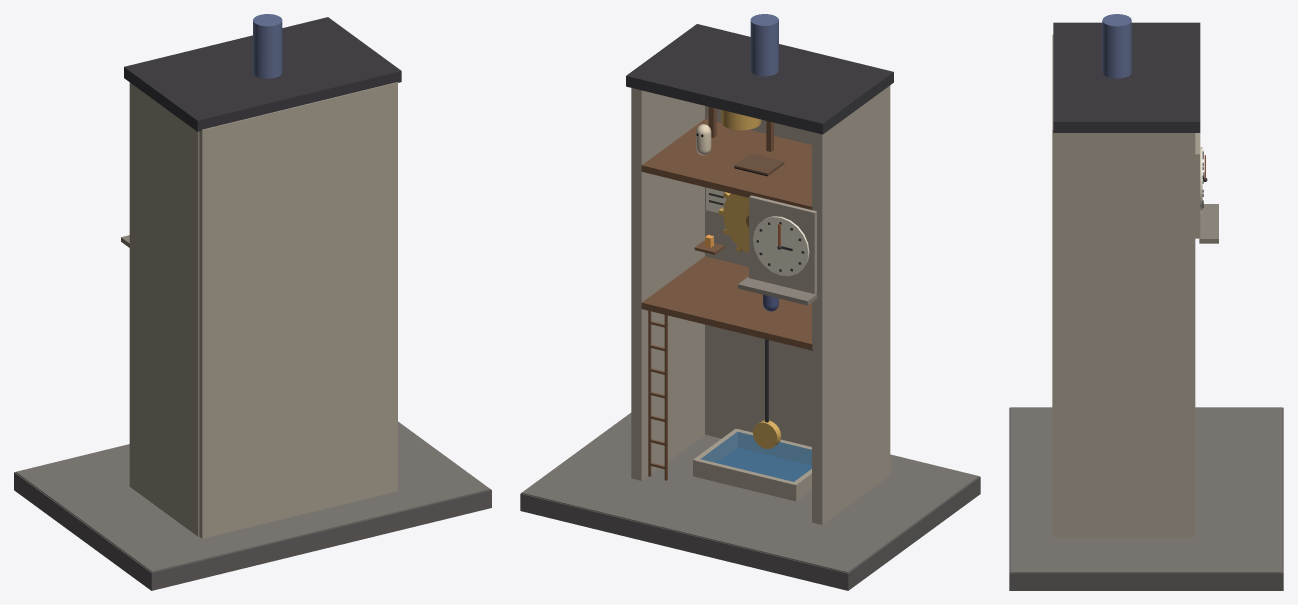
The model's file is level_05.obj.
3 renders of one model, left to right at view 1: azimuth 30°, elevation 25°; view 2: azimuth 150°, elevation 25°; view 3: azimuth 270°, elevation 25°, orthographic. The views are drawn at different scales.
Parts seen in each view (by area): view 1: _set; view 2: _set, _program, gears, face, pendulum, hatch; view 3: _set, face.
Boxes of the visible parts, bbox=[...] form: _set: bbox=[14, 14, 491, 590]; _set: bbox=[520, 14, 980, 590]; _program: bbox=[700, 431, 811, 481]; gears: bbox=[718, 192, 748, 252]; face: bbox=[738, 277, 817, 305]; pendulum: bbox=[753, 339, 781, 448]; hatch: bbox=[734, 153, 784, 176]; _set: bbox=[1009, 14, 1283, 590]; face: bbox=[1199, 204, 1218, 243].
Size of the model in its own units: 8 by 11 by 5.6.
